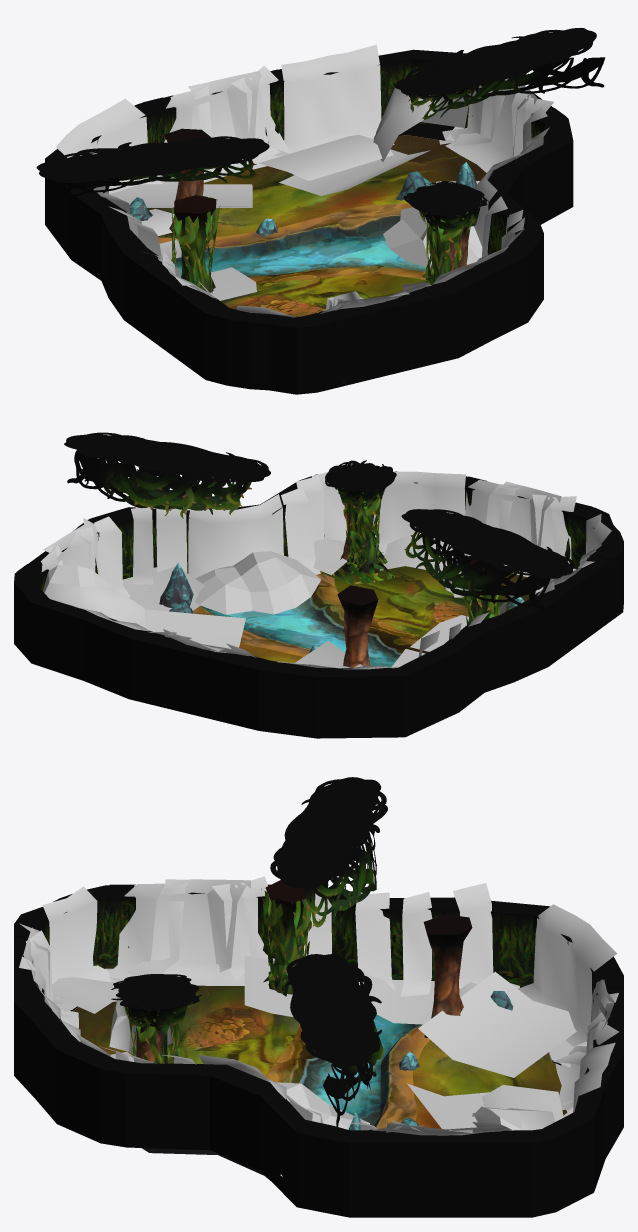
Rendered from Dungeon_021_RoomSW_006.fbx.
The picture shows the model from 3 angles, top to bottom: view 1: azimuth 30°, elevation 25°; view 2: azimuth 150°, elevation 25°; view 3: azimuth 270°, elevation 25°; orthographic projection. The views are drawn at different scales.
Parts seen in each view (by area): view 1: Dun_021_Room_003_wall, Dungeon_021_Object_023, Dungeon_021_Object_024, Dungeon_021_Object_021, Dun_021_Room_003_ground, un_021_Door_002 (×2), un_021_Door_002_Object1 (×3), Dun_011_Room_003_kawa01, Dungeon_021_Object_016, Dungeon_021_Object_010, Dungeon_011_Object_010, Dun_011_Room_003_shadow; view 2: Dun_021_Room_003_wall, Dungeon_021_Object_023, Dungeon_021_Object_024, Dungeon_021_Object_021, un_021_Door_002 (×4), un_021_Door_002_Object1 (×3), Dun_011_Room_003_kawa01, Dun_021_Room_003_ground, Dungeon_021_Object_010, Dungeon_011_Object_010, Dungeon_011_Object_011, Dungeon_021_Object_016; view 3: Dun_021_Room_003_wall, Dungeon_021_Object_023, Dungeon_021_Object_024, Dungeon_021_Object_021, un_021_Door_002_Object1 (×4), un_021_Door_002 (×3), Dun_021_Room_003_ground, Dun_011_Room_003_kawa01, Dungeon_021_Object_016, Dungeon_011_Object_010, Dungeon_021_Object_010, Dungeon_021_Object_014 (+1 smaller).
Boxes of the visible parts, <box> form: Dun_021_Room_003_wall: <box>45,49,573,394</box>; Dungeon_021_Object_023: <box>36,28,605,234</box>; Dungeon_021_Object_024: <box>56,44,549,317</box>; Dungeon_021_Object_021: <box>109,88,482,300</box>; Dun_021_Room_003_ground: <box>147,135,486,317</box>; un_021_Door_002 (×2): <box>126,249,455,386</box>; un_021_Door_002_Object1 (×3): <box>160,65,553,313</box>; Dun_011_Room_003_kawa01: <box>158,203,427,283</box>; Dungeon_021_Object_016: <box>168,195,228,299</box>; Dungeon_021_Object_010: <box>425,211,470,284</box>; Dungeon_011_Object_010: <box>164,128,210,238</box>; Dun_011_Room_003_shadow: <box>398,124,454,140</box>; Dun_021_Room_003_wall: <box>14,471,623,738</box>; Dungeon_021_Object_023: <box>64,432,574,611</box>; Dungeon_021_Object_024: <box>67,471,611,669</box>; Dungeon_021_Object_021: <box>43,535,542,667</box>; un_021_Door_002 (×4): <box>17,476,620,725</box>; un_021_Door_002_Object1 (×3): <box>41,479,576,657</box>; Dun_011_Room_003_kawa01: <box>193,571,428,667</box>; Dun_021_Room_003_ground: <box>239,555,529,662</box>; Dungeon_021_Object_010: <box>321,488,395,584</box>; Dungeon_011_Object_010: <box>337,585,377,667</box>; Dungeon_011_Object_011: <box>159,562,193,608</box>; Dungeon_021_Object_016: <box>461,555,503,624</box>; Dun_021_Room_003_wall: <box>14,885,623,1217</box>; Dungeon_021_Object_023: <box>111,777,387,1127</box>; Dungeon_021_Object_024: <box>36,883,617,1130</box>; Dungeon_021_Object_021: <box>52,956,576,1176</box>; un_021_Door_002_Object1 (×4): <box>19,876,618,1135</box>; un_021_Door_002 (×3): <box>14,925,623,1217</box>; Dun_021_Room_003_ground: <box>73,985,567,1128</box>; Dun_011_Room_003_kawa01: <box>142,1014,430,1180</box>; Dungeon_021_Object_016: <box>261,880,311,996</box>; Dungeon_011_Object_010: <box>423,914,472,1037</box>; Dungeon_021_Object_010: <box>127,1007,179,1063</box>; Dungeon_021_Object_014: <box>109,997,172,1056</box>.
Size of what is drawn, in the model's own units: 18.45 by 4.72 by 15.
